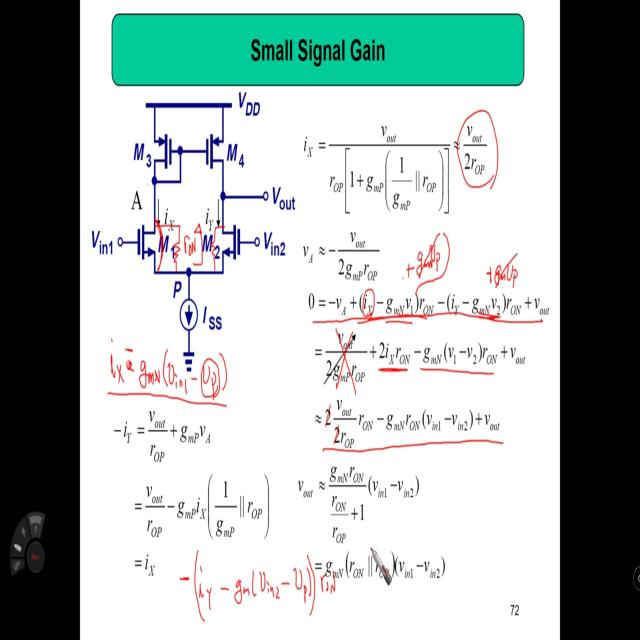panseo: (153, 532, 347, 629), (94, 322, 246, 426), (395, 214, 531, 311), (134, 202, 248, 291)
